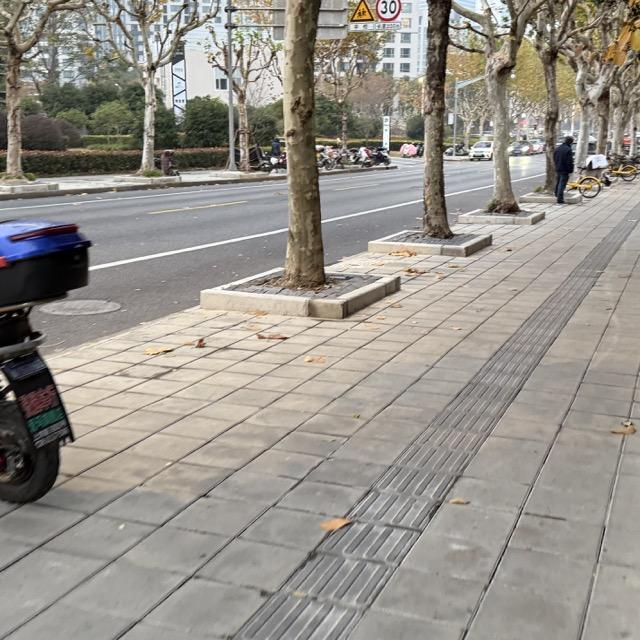curb: (201, 268, 400, 320), (0, 175, 283, 200), (369, 235, 491, 257), (458, 213, 545, 224), (519, 196, 555, 203), (564, 195, 582, 203)
